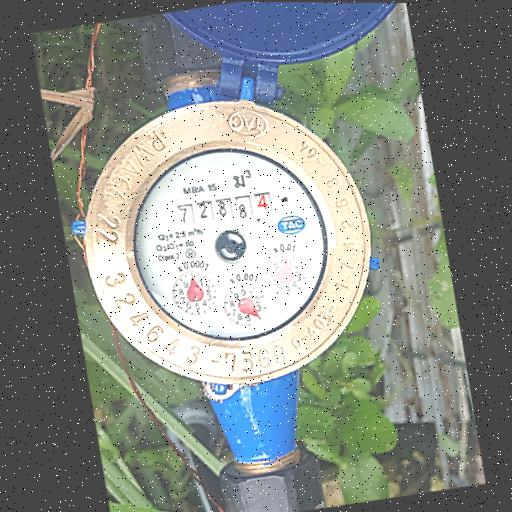2: (196, 199, 213, 221)
4: (255, 192, 271, 214)
7: (177, 201, 194, 224)
8: (215, 195, 233, 219), (236, 195, 252, 216)
border_water_meter_number: (171, 184, 278, 233)
